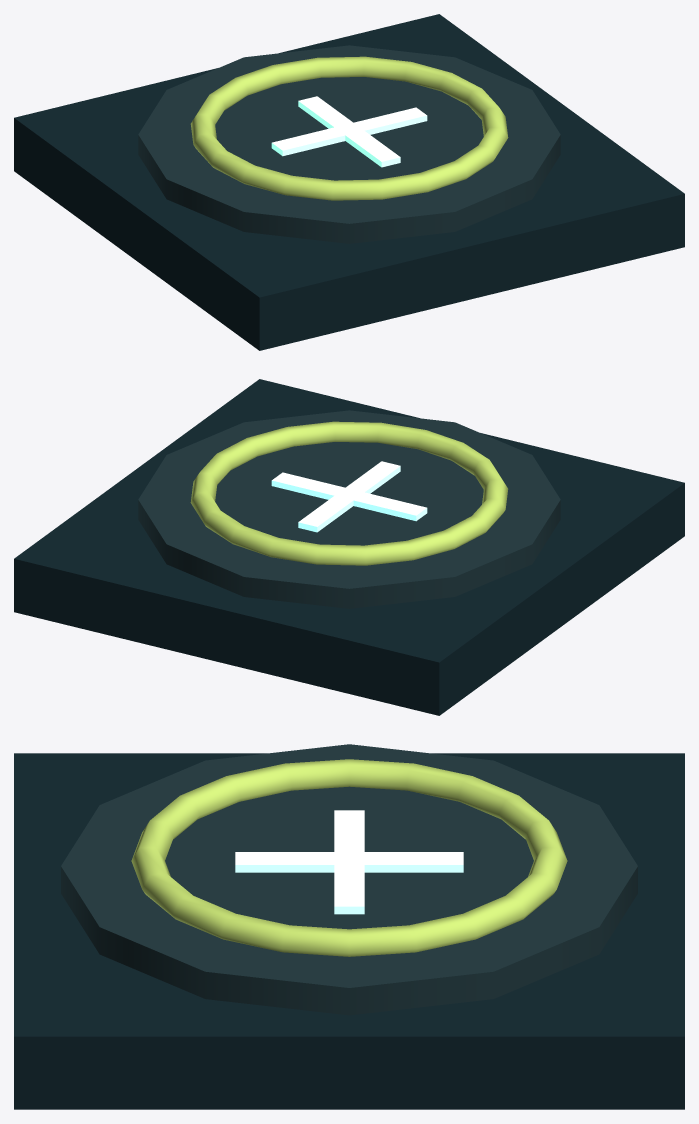
Rendered from dock-pad.glb.
The picture shows the model from 3 angles, top to bottom: view 1: azimuth 30°, elevation 25°; view 2: azimuth 150°, elevation 25°; view 3: azimuth 270°, elevation 25°; orthographic projection. The views are drawn at different scales.
Visible parts, largest first — view 1: base, platform, target-ring, target-x, target-z; view 2: base, platform, target-ring, target-x, target-z; view 3: base, platform, target-ring, target-z, target-x.
Part boxes in pixels (x1,y1,x2,y2): base: (14,14,684,350); platform: (138,45,560,243); target-ring: (190,56,508,200); target-x: (271,107,427,156); target-z: (298,96,400,167); base: (14,379,684,715); platform: (138,410,560,608); target-ring: (190,421,508,565); target-x: (271,472,427,521); target-z: (298,461,400,532); base: (14,753,684,1109); platform: (61,744,637,1015); target-ring: (131,759,567,956); target-z: (235,852,463,872); target-x: (334,810,364,914).
Size of the model in its own units: 1 by 0.1977 by 1.
